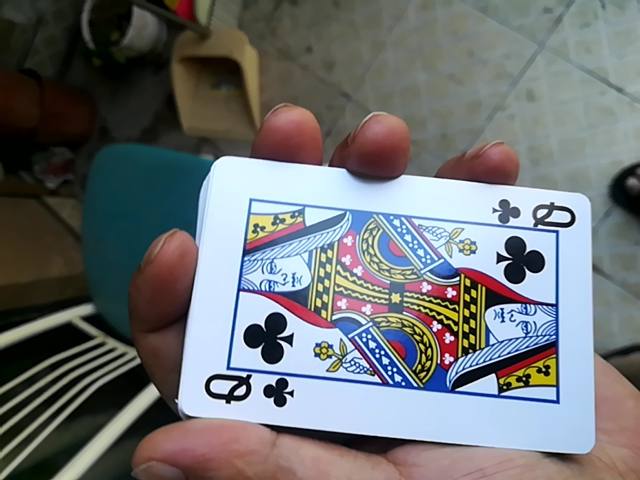mh q: (167, 145, 612, 462)
